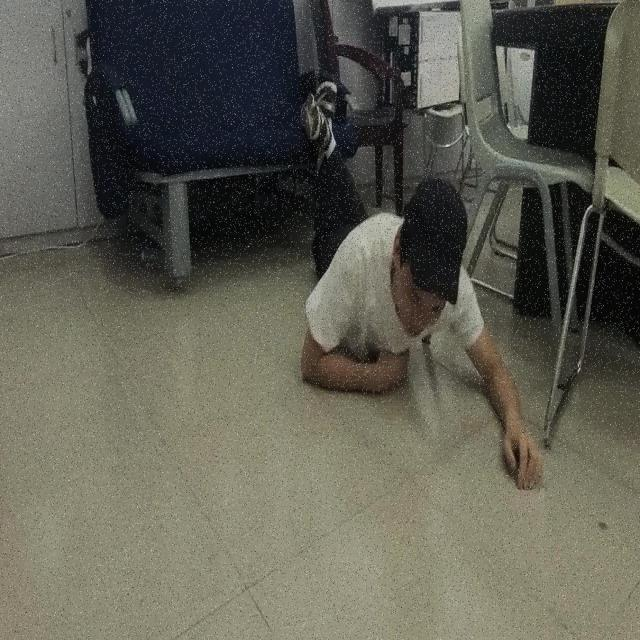fall: (298, 76, 541, 493)
